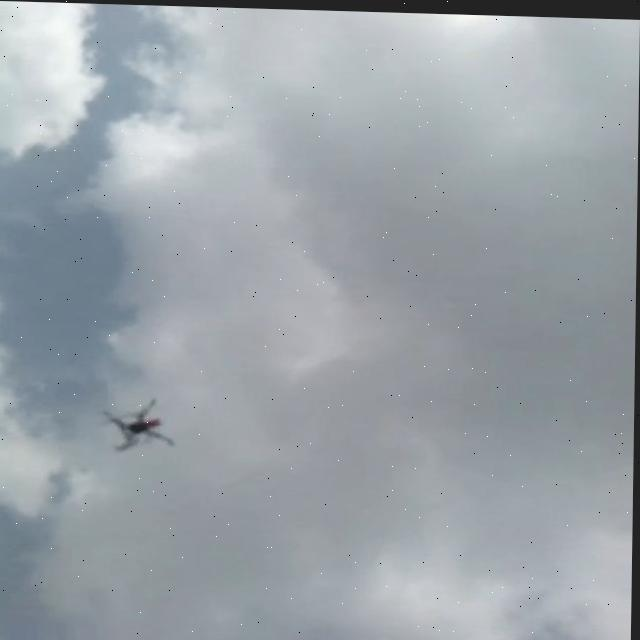drone: (101, 392, 187, 454)
